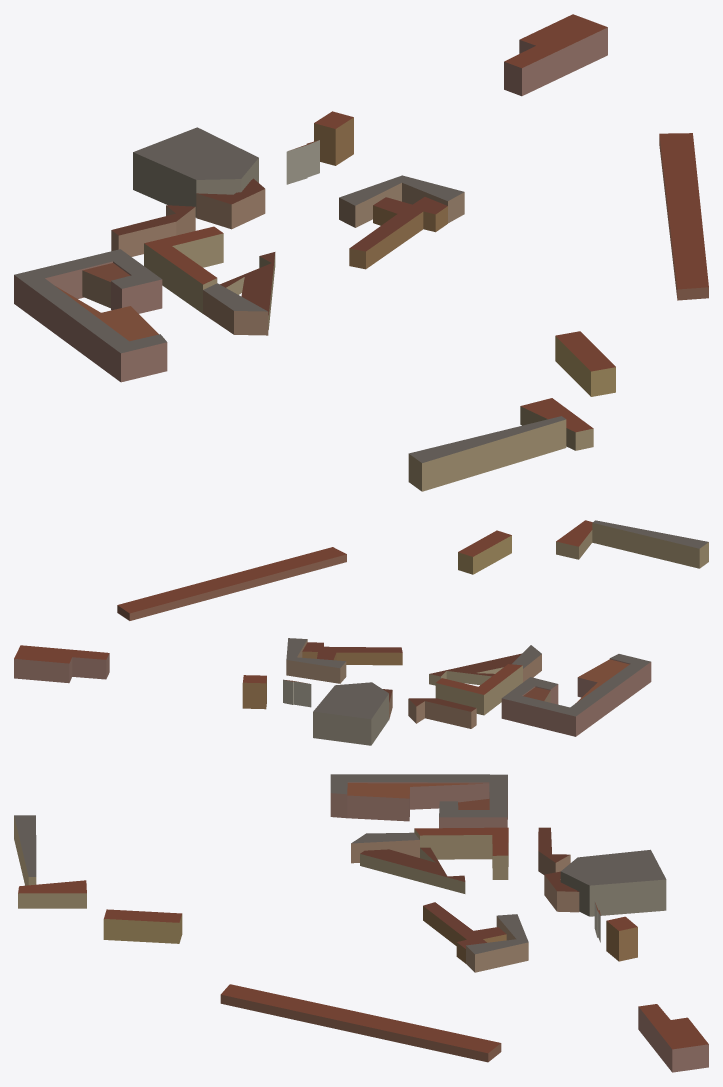
The model's file is SM_Fondale_Citta_Colle_04_LOD2.fbx.
3 views of the same model, one above another, from view 1: azimuth 30°, elevation 25°; view 2: azimuth 150°, elevation 25°; view 3: azimuth 270°, elevation 25° (orthographic). The views are drawn at different scales.
Visible parts, largest first — view 1: SM_Fondale_Citta_Colle_04_LOD2; view 2: SM_Fondale_Citta_Colle_04_LOD2; view 3: SM_Fondale_Citta_Colle_04_LOD2.
Part boxes in pixels (x1,y1,x2,y2): SM_Fondale_Citta_Colle_04_LOD2: (14,14,708,491); SM_Fondale_Citta_Colle_04_LOD2: (14,520,708,745); SM_Fondale_Citta_Colle_04_LOD2: (14,774,708,1072).
Size of the model in its own units: 41767 by 43867 by 2260.
